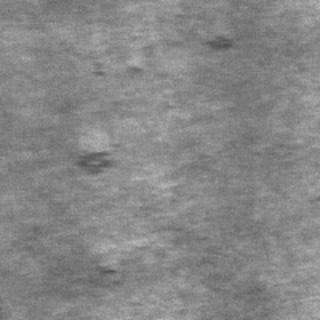rolled pit: (82, 31, 236, 74), (68, 133, 128, 177)
